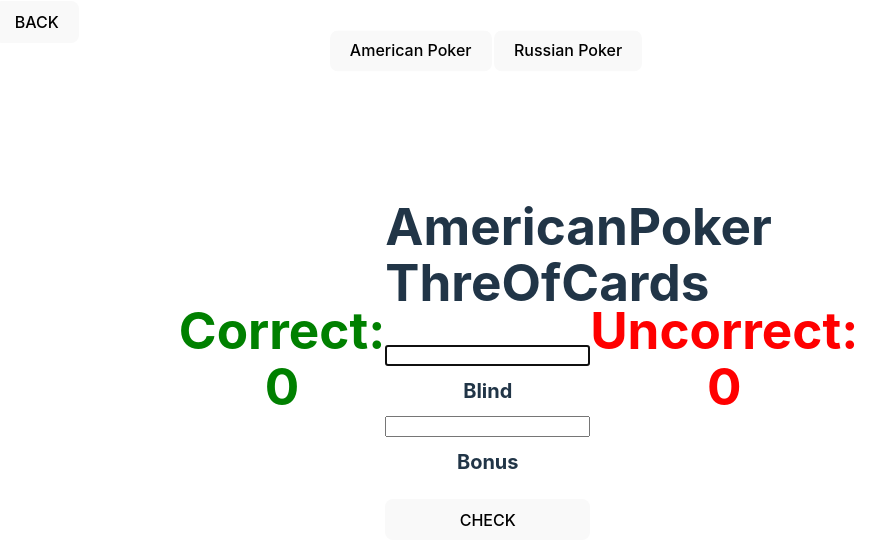
Test: testing poker payments russian poker
The image size is (872, 543).
Click the button with id "secound".
click(568, 51)  # box [494,30,642,71]
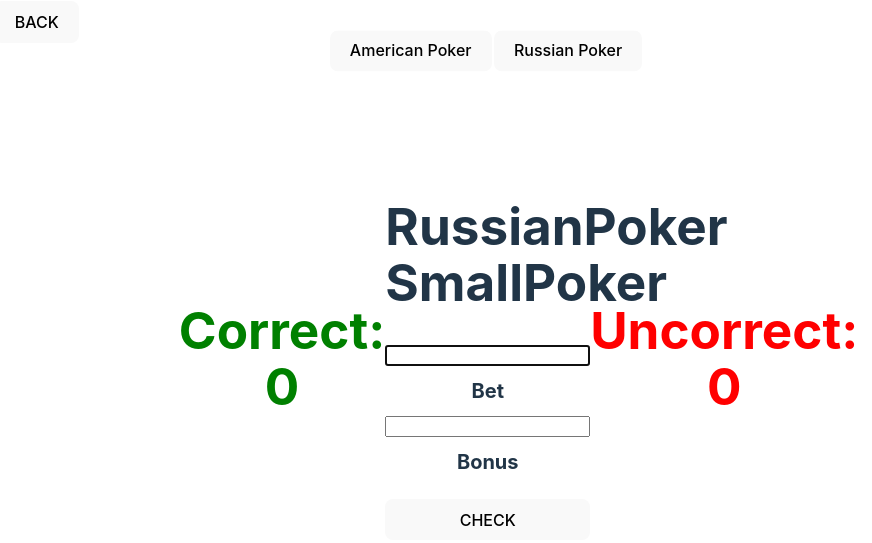
Type "50" into the field with id "blindOrAnte".
click(488, 356); type("50")  # box [385,345,590,366]
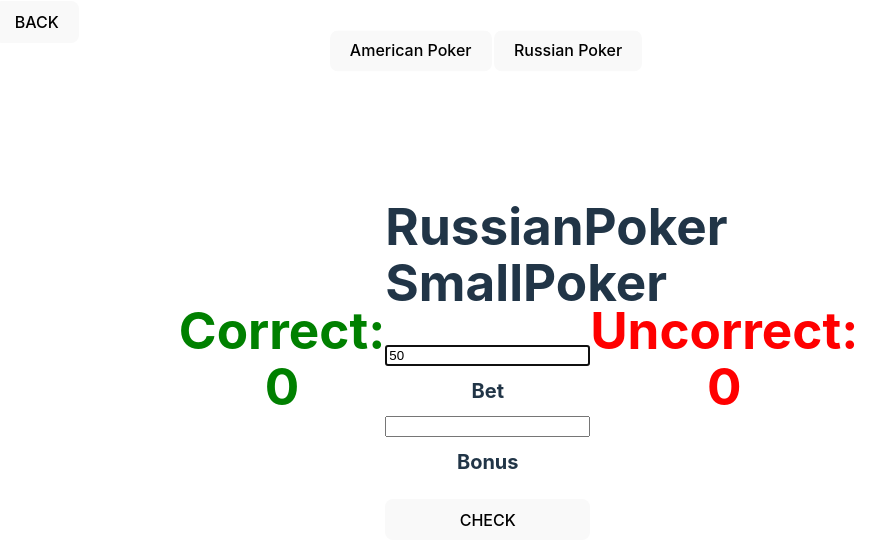
Type "2000" into the field with id "bonus".
click(488, 426); type("2000")  # box [385,416,590,437]
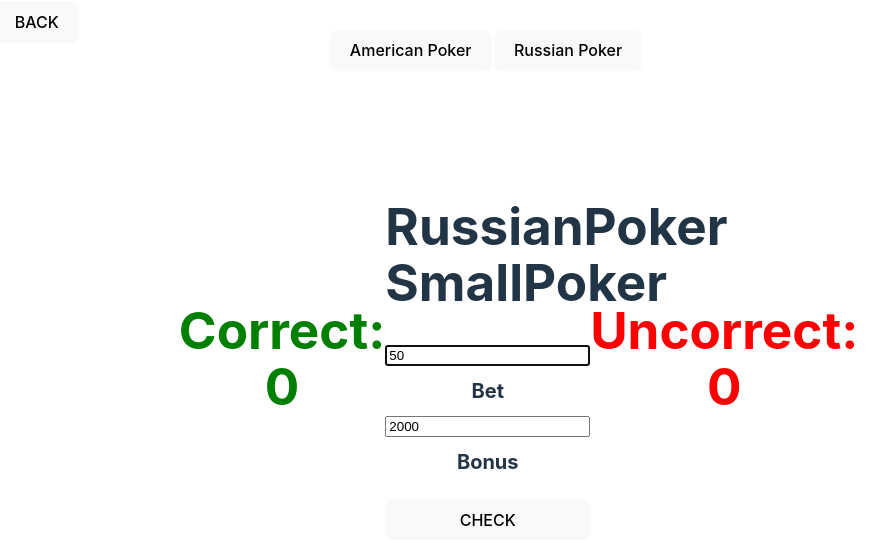
Press Enter in the field with id "bonus", box [385,416,590,437]
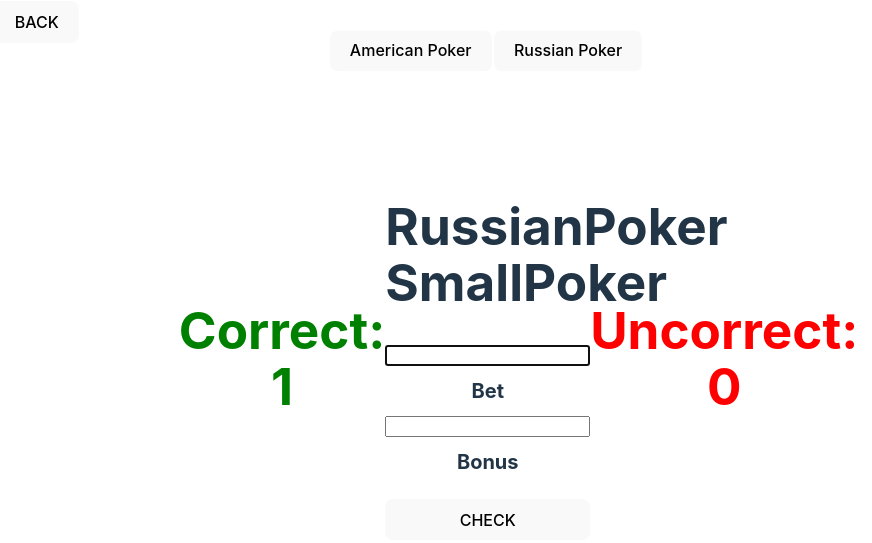
Expected: the text with id "correctNoumber" reads "1", [271,355,293,417]
